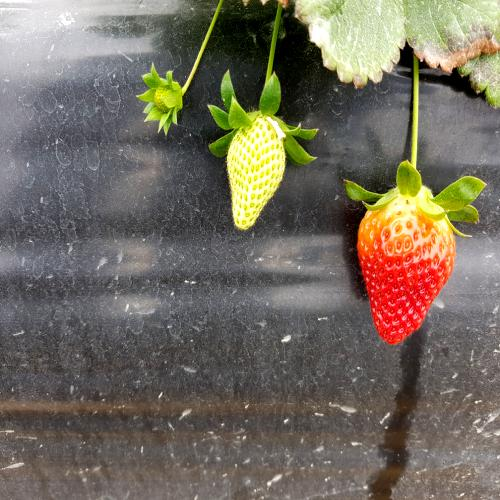ripe: (357, 179, 460, 361)
unripe: (222, 105, 288, 251)
